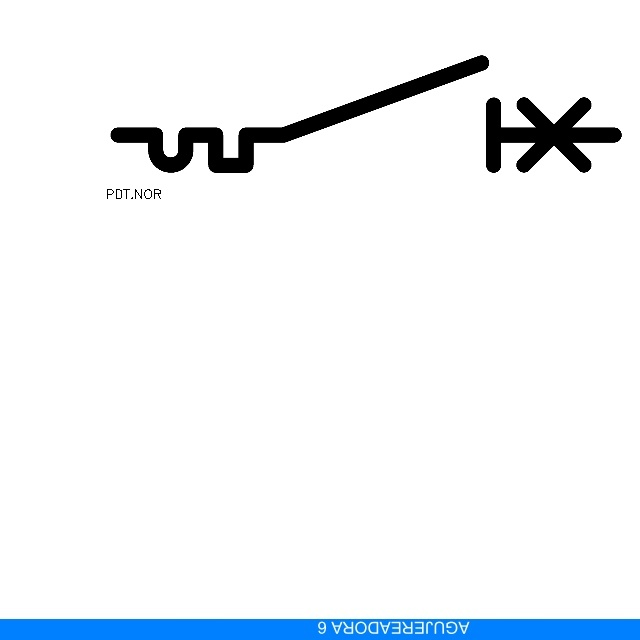interruptor_termomagnetico: (105, 50, 626, 178)
